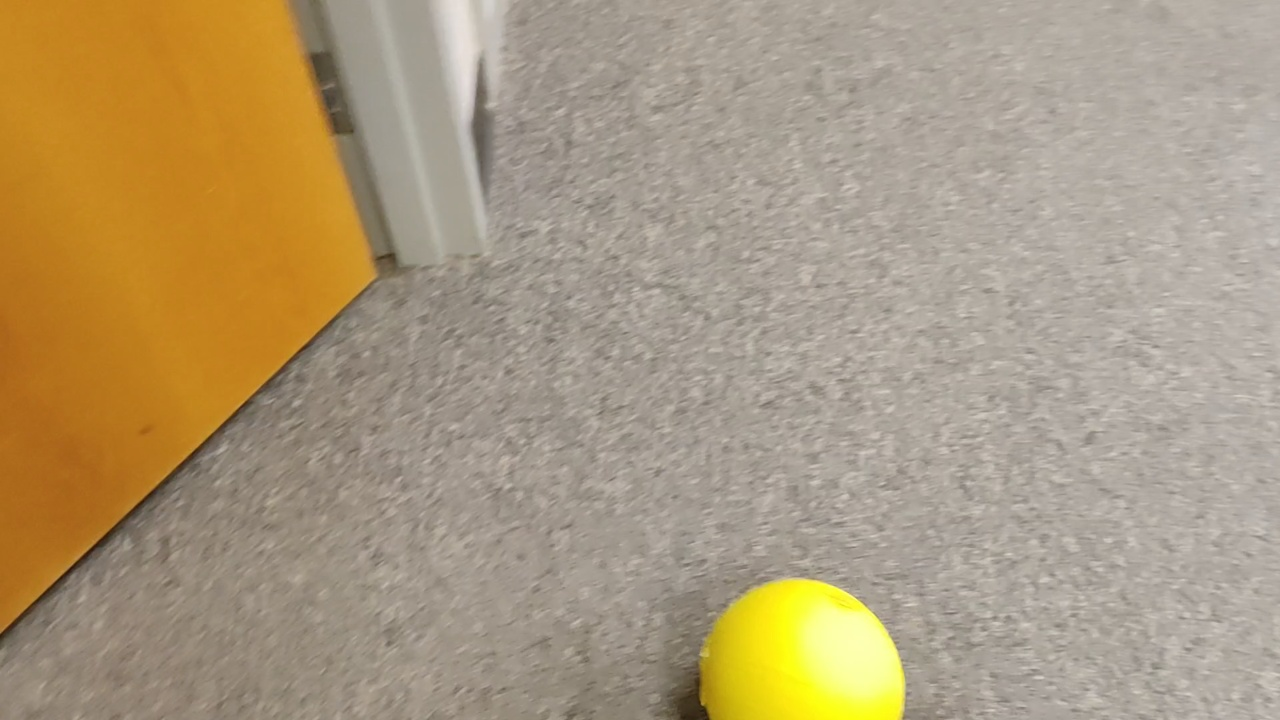Ball: (698, 578, 903, 720)
